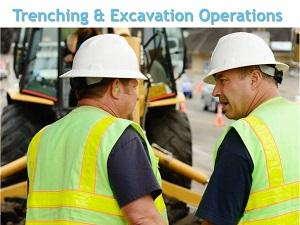helmet: (203, 33, 292, 83), (63, 35, 148, 82)
